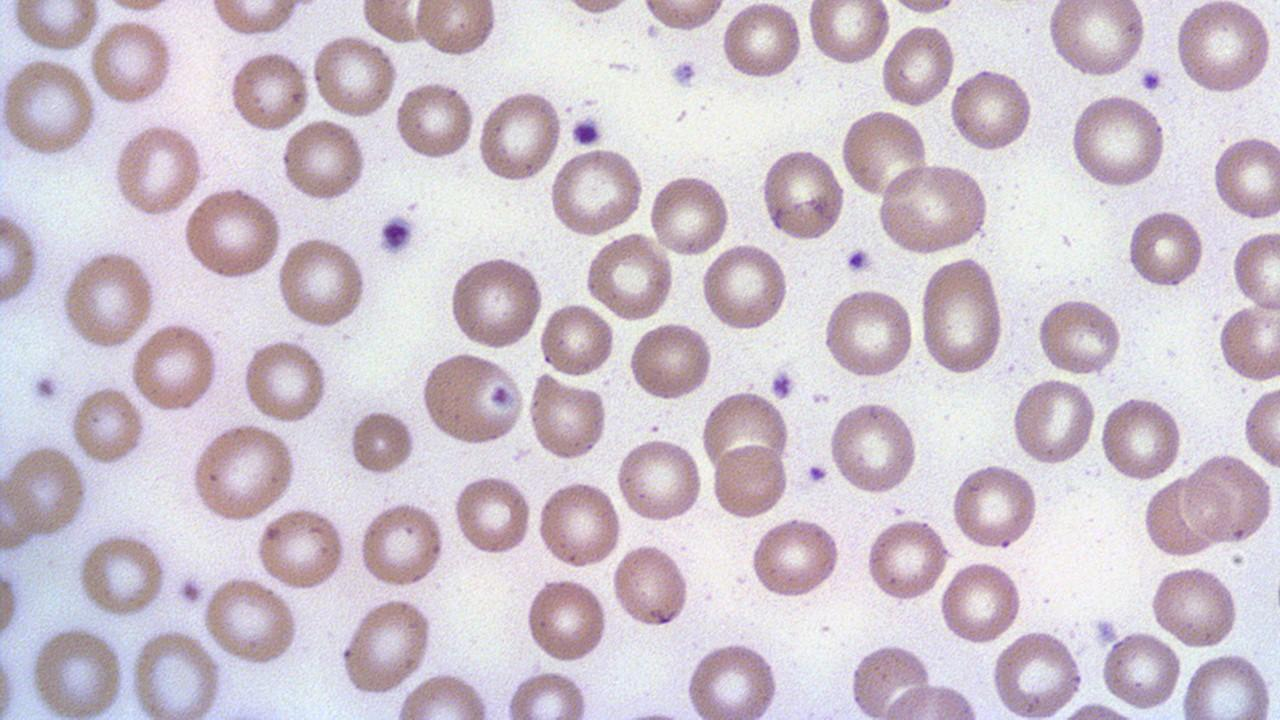Platelets: (376, 212, 419, 257), (568, 114, 606, 150), (1088, 612, 1120, 646), (668, 58, 700, 92), (842, 246, 876, 275), (768, 367, 796, 402), (806, 460, 833, 488), (1138, 66, 1166, 93)
RBC: (917, 254, 1008, 377), (189, 422, 299, 523), (876, 161, 990, 256), (417, 351, 526, 446), (1068, 90, 1168, 191), (180, 185, 282, 284), (1171, 0, 1275, 97), (0, 56, 98, 158), (337, 594, 435, 696), (58, 248, 155, 350), (446, 252, 544, 352), (700, 387, 791, 491), (820, 284, 916, 382), (29, 622, 126, 718), (203, 574, 302, 668), (275, 233, 367, 332), (547, 145, 643, 238), (828, 397, 918, 496), (758, 143, 846, 244), (476, 85, 562, 188), (129, 626, 224, 719), (112, 122, 202, 220), (129, 320, 220, 416), (1183, 452, 1275, 546), (838, 108, 930, 202), (989, 626, 1085, 716), (534, 476, 623, 572), (950, 460, 1040, 554), (748, 514, 844, 602), (700, 240, 790, 333), (77, 530, 169, 620), (1149, 561, 1241, 651), (614, 434, 704, 526), (357, 496, 445, 590), (1044, 1, 1148, 80), (240, 334, 329, 426), (524, 572, 610, 667), (310, 31, 399, 122), (279, 114, 368, 205), (1098, 392, 1184, 486), (584, 232, 674, 321), (1010, 375, 1096, 468), (3, 443, 85, 540), (254, 506, 346, 592), (948, 64, 1034, 156), (937, 556, 1023, 648), (684, 638, 782, 718), (864, 515, 951, 605), (626, 318, 715, 404), (90, 17, 174, 108), (227, 47, 311, 136), (610, 540, 691, 632), (1099, 625, 1183, 713), (647, 171, 731, 258), (393, 77, 476, 165), (527, 373, 608, 463), (719, 0, 804, 84), (846, 638, 932, 720), (1036, 296, 1122, 378), (880, 20, 958, 110), (1125, 206, 1205, 292), (452, 472, 532, 558), (1177, 650, 1277, 718), (1142, 474, 1220, 560), (68, 382, 146, 468), (710, 440, 788, 521), (1211, 132, 1279, 222), (538, 300, 615, 378), (805, 1, 892, 70), (1216, 300, 1280, 382), (8, 2, 101, 57), (414, 1, 498, 61), (349, 406, 416, 478), (503, 667, 592, 719), (1229, 227, 1279, 314), (883, 678, 985, 720), (0, 203, 39, 311), (208, 1, 306, 40), (358, 0, 432, 47), (1242, 381, 1280, 472), (0, 472, 42, 553), (637, 1, 730, 34), (0, 550, 22, 654), (557, 0, 635, 18), (882, 0, 960, 17)
